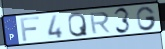3: (112, 7, 133, 35)
4: (46, 14, 64, 40)
F: (19, 16, 41, 43)
G: (135, 6, 158, 32)
Q: (67, 11, 89, 38)
R: (89, 10, 112, 35)
